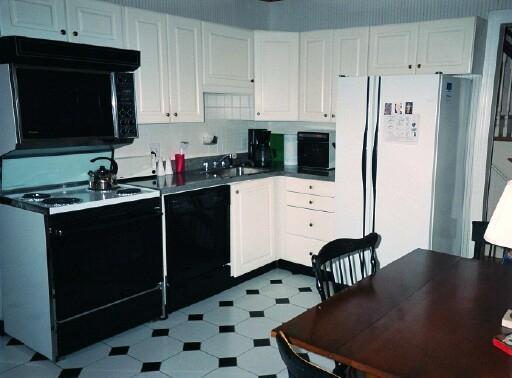Electrodomestico: (14, 193, 165, 332), (340, 76, 449, 242), (164, 181, 230, 307)
Lavaplatos: (203, 156, 274, 181)
